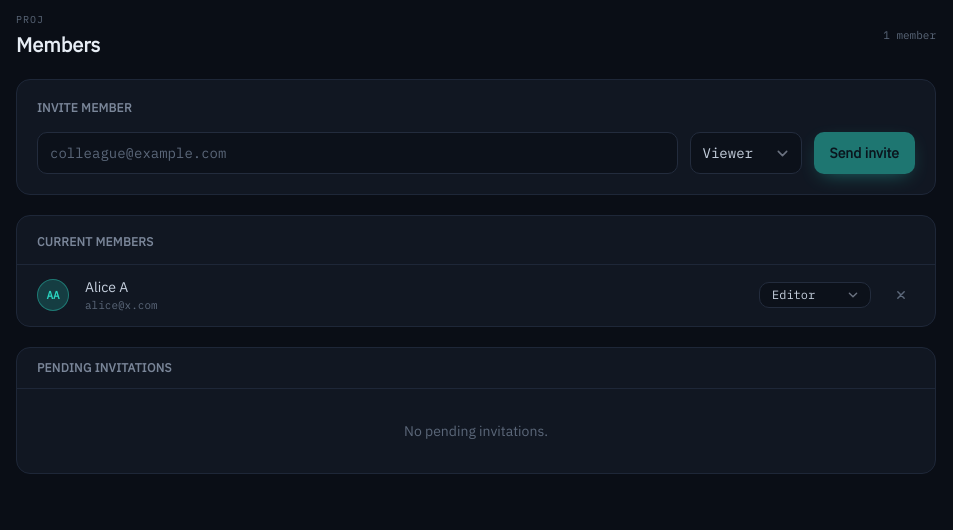
Scenario: Members — owner (management) › removes a member after confirmation
The image size is (953, 530).
Check: the text "Alice A" is shown, box x1=85 y1=278 x2=128 y2=296
Click the button titled "Remove member". click: x=901, y=295
box: x1=887 y1=281 x2=915 y2=309
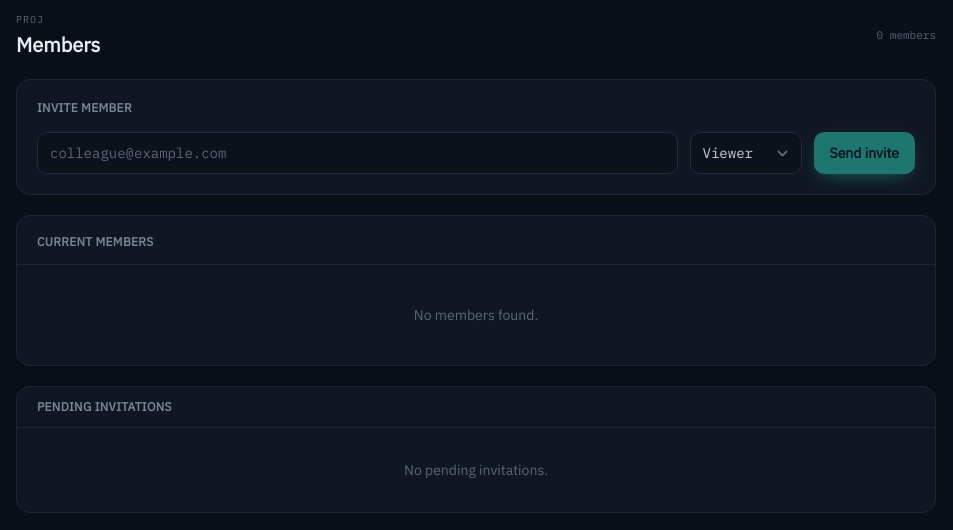
Check: the text "Alice A" is gone
